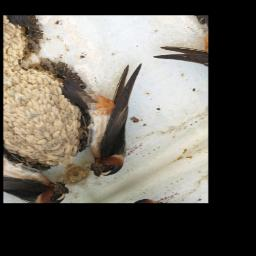Swallow: (45, 57, 193, 182)
